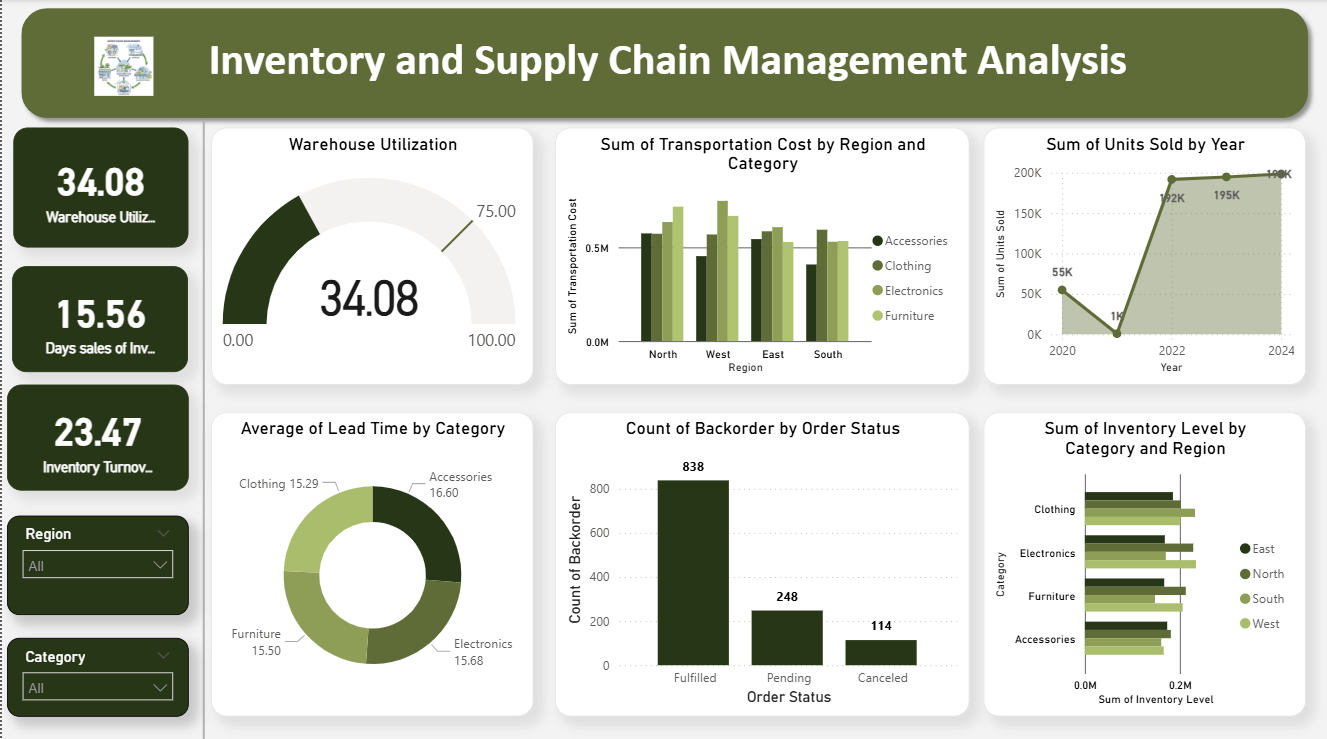

The dashboard page shown, as its layout file describes it:
{"tool":"powerbi","page":{"name":"Page 1","canvas":[1280,720],"ordinal":0},"visuals":[{"type":"shape","box":[10,0,1260,123.8],"z":0},{"type":"textbox","box":[26.2,26.2,1232.5,71.2],"z":1000},{"type":"image","box":[82.7,31.6,70.6,66.9],"z":2000},{"type":"shape","box":[188.8,116.2,12.5,603.8],"z":3000},{"type":"slicer","fields":{"Values":["Inventory and Supply Chain Dataset.Region"]},"box":[5,498.8,175,96.2],"z":4000},{"type":"slicer","fields":{"Values":["Inventory and Supply Chain Dataset.Category"]},"box":[5,616.2,175,76.2],"z":5000},{"type":"gauge","fields":{"Y":["Inventory and Supply Chain Dataset.Warehouse Utilization"]},"box":[202.5,123.8,311.2,248.8],"z":6000},{"type":"clusteredColumnChart","fields":{"Y":["Sum(Inventory and Supply Chain Dataset.Transportation Cost)"],"Category":["Inventory and Supply Chain Dataset.Region"],"Series":["Inventory and Supply Chain Dataset.Category"]},"box":[533.8,123.8,400,248.8],"z":7000},{"type":"lineChart","fields":{"Y":["Sum(Inventory and Supply Chain Dataset.Units Sold)"],"Category":["Inventory and Supply Chain Dataset.Date.Variation.Date Hierarchy.Year"]},"box":[947.5,123.8,311.2,248.8],"z":8000},{"type":"donutChart","fields":{"Y":["Avg(Inventory and Supply Chain Dataset.Lead Time)"],"Category":["Inventory and Supply Chain Dataset.Category"]},"box":[202.5,398.8,311.2,293.8],"z":9000},{"type":"columnChart","fields":{"Y":["CountNonNull(Inventory and Supply Chain Dataset.Backorder)"],"Category":["Inventory and Supply Chain Dataset.Order Status"]},"box":[533.8,398.8,400,293.8],"z":10000},{"type":"clusteredBarChart","fields":{"Y":["Sum(Inventory and Supply Chain Dataset.Inventory Level)"],"Category":["Inventory and Supply Chain Dataset.Category"],"Series":["Inventory and Supply Chain Dataset.Region"]},"box":[947.5,398.8,311.2,293.8],"z":11000},{"type":"card","fields":{"Values":["Inventory and Supply Chain Dataset.Warehouse Utilization"]},"box":[11.2,123.8,168.8,116.2],"z":12000},{"type":"card","fields":{"Values":["Inventory and Supply Chain Dataset.Days sales of Inventory"]},"box":[10,257.5,170,102.5],"z":13000},{"type":"card","fields":{"Values":["Inventory and Supply Chain Dataset.Inventory Turnover Ratio"]},"box":[5,372.5,175,102.5],"z":14000}]}

Visuals, with their boxes in screenshot pixels (x1, y1, x2, y2), scaled from the page's 1280x720 canvas onto the 1327x739 screenshot:
shape: 10, 0, 1317, 127
textbox: 27, 27, 1305, 100
image: 86, 32, 159, 101
shape: 196, 119, 209, 738
slicer - Inventory and Supply Chain Dataset.Region: 5, 512, 187, 611
slicer - Inventory and Supply Chain Dataset.Category: 5, 632, 187, 711
gauge - Inventory and Supply Chain Dataset.Warehouse Utilization: 210, 127, 533, 382
clusteredColumnChart - Sum(Inventory and Supply Chain Dataset.Transportation Cost) x Inventory and Supply Chain Dataset.Region: 553, 127, 968, 382
lineChart - Sum(Inventory and Supply Chain Dataset.Units Sold) x Inventory and Supply Chain Dataset.Date.Variation.Date Hierarchy.Year: 982, 127, 1305, 382
donutChart - Avg(Inventory and Supply Chain Dataset.Lead Time) x Inventory and Supply Chain Dataset.Category: 210, 409, 533, 711
columnChart - CountNonNull(Inventory and Supply Chain Dataset.Backorder) x Inventory and Supply Chain Dataset.Order Status: 553, 409, 968, 711
clusteredBarChart - Sum(Inventory and Supply Chain Dataset.Inventory Level) x Inventory and Supply Chain Dataset.Category: 982, 409, 1305, 711
card - Inventory and Supply Chain Dataset.Warehouse Utilization: 12, 127, 187, 246
card - Inventory and Supply Chain Dataset.Days sales of Inventory: 10, 264, 187, 369
card - Inventory and Supply Chain Dataset.Inventory Turnover Ratio: 5, 382, 187, 488
